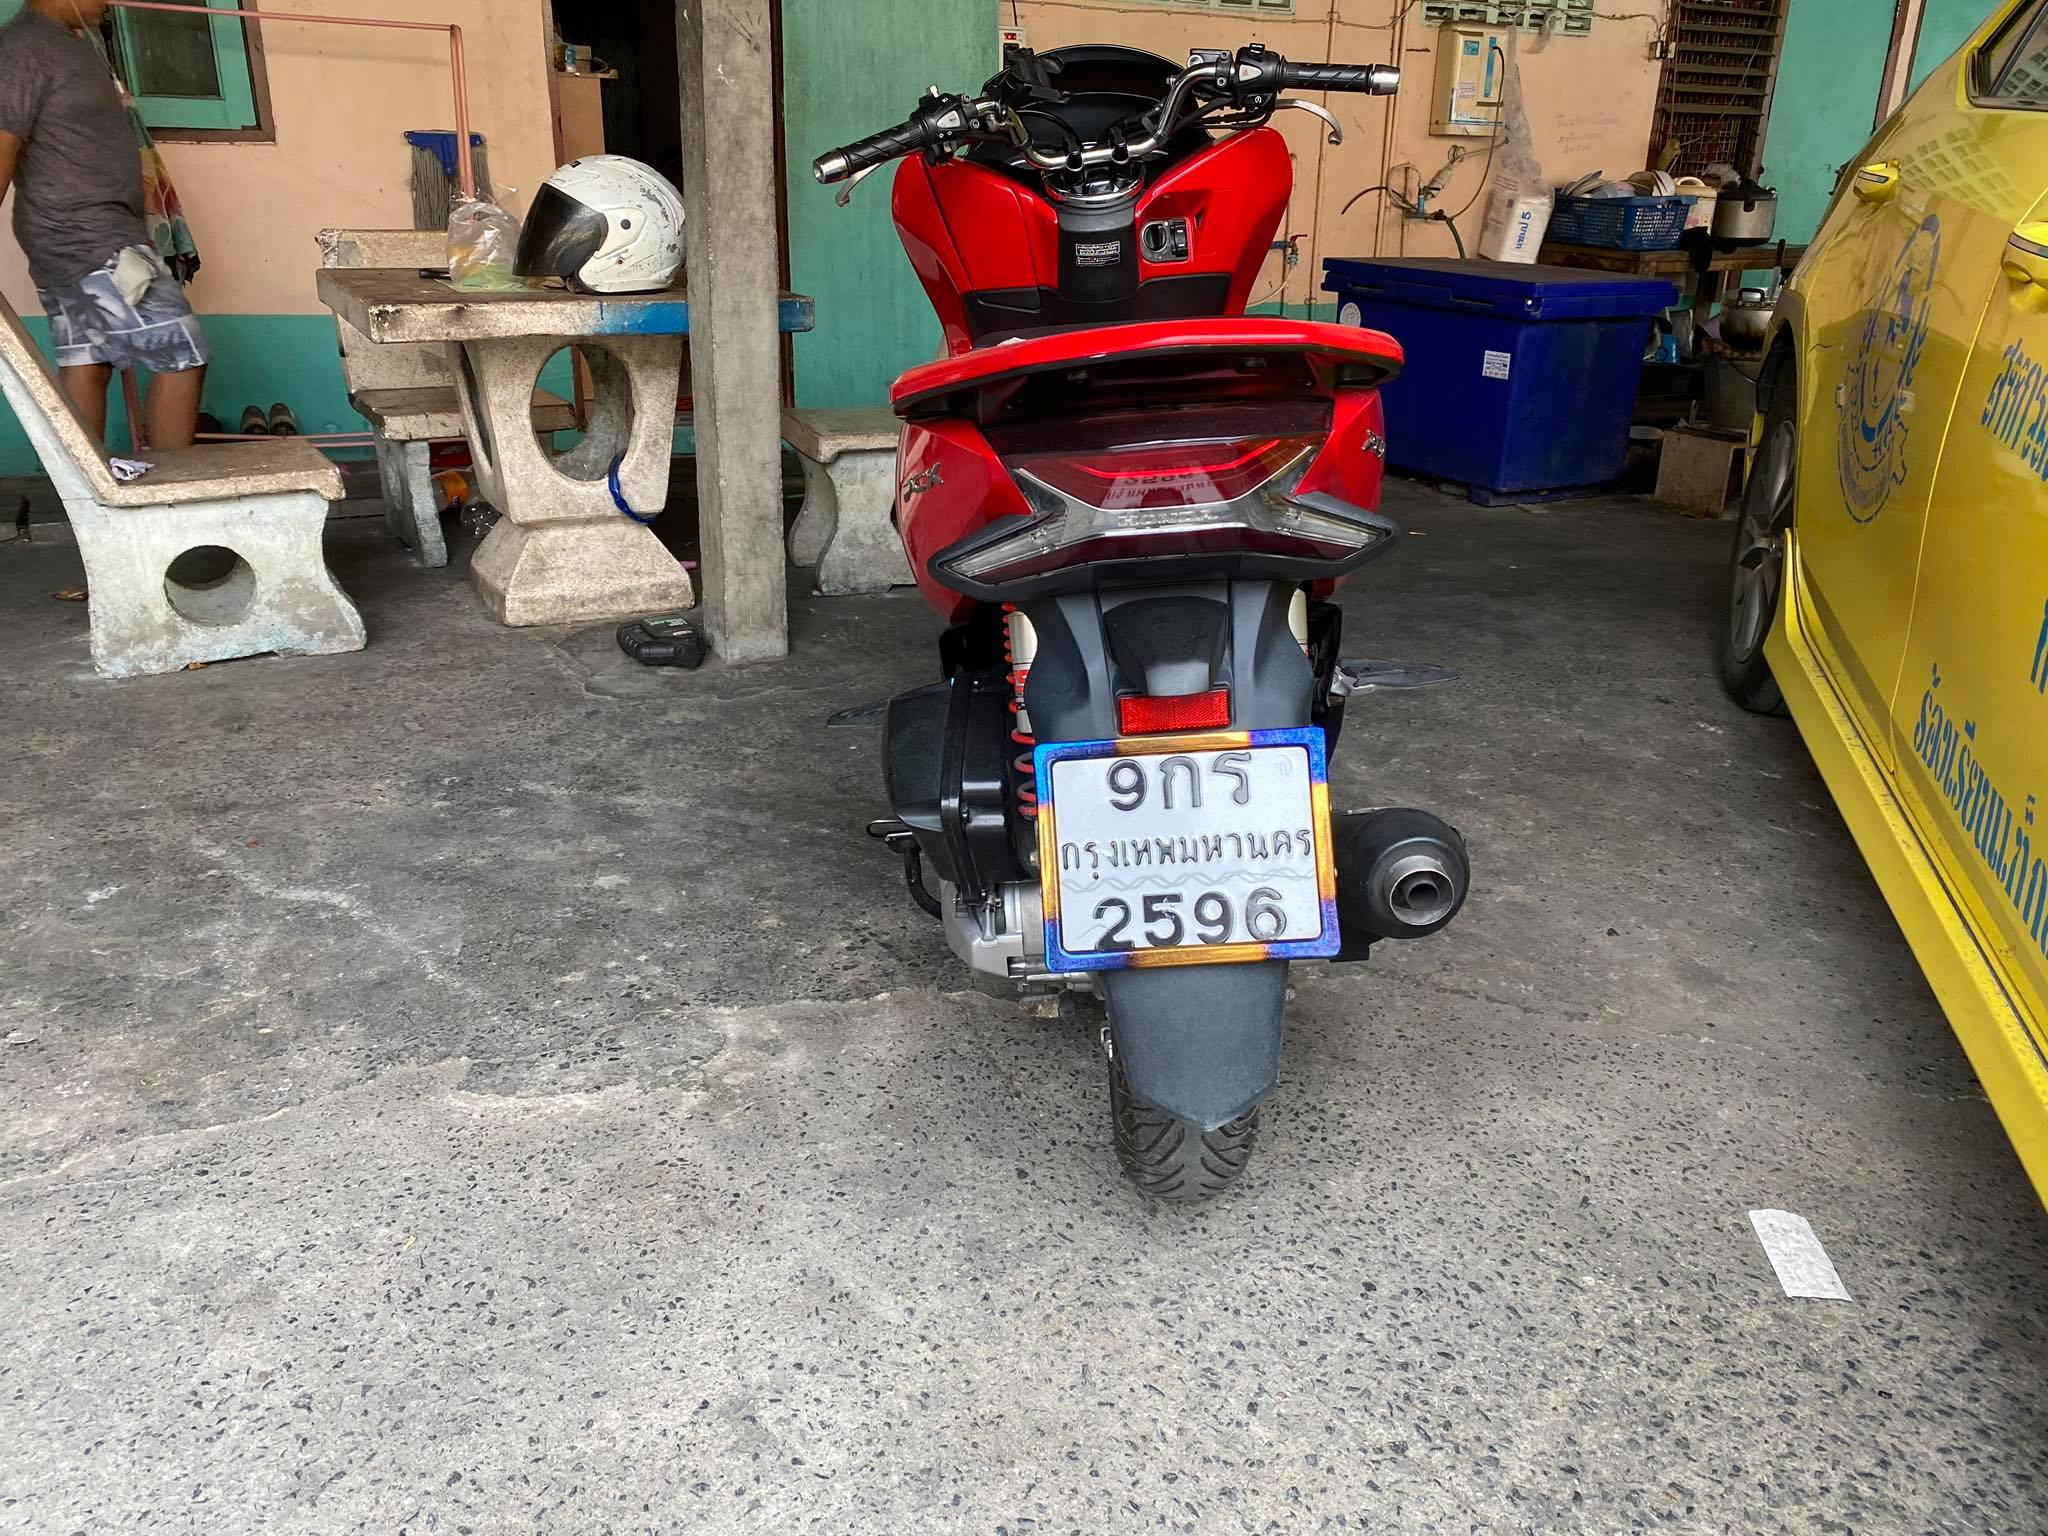line1: (1100, 745, 1264, 816)
line2: (1056, 831, 1313, 889)
line3: (1089, 889, 1297, 954)
